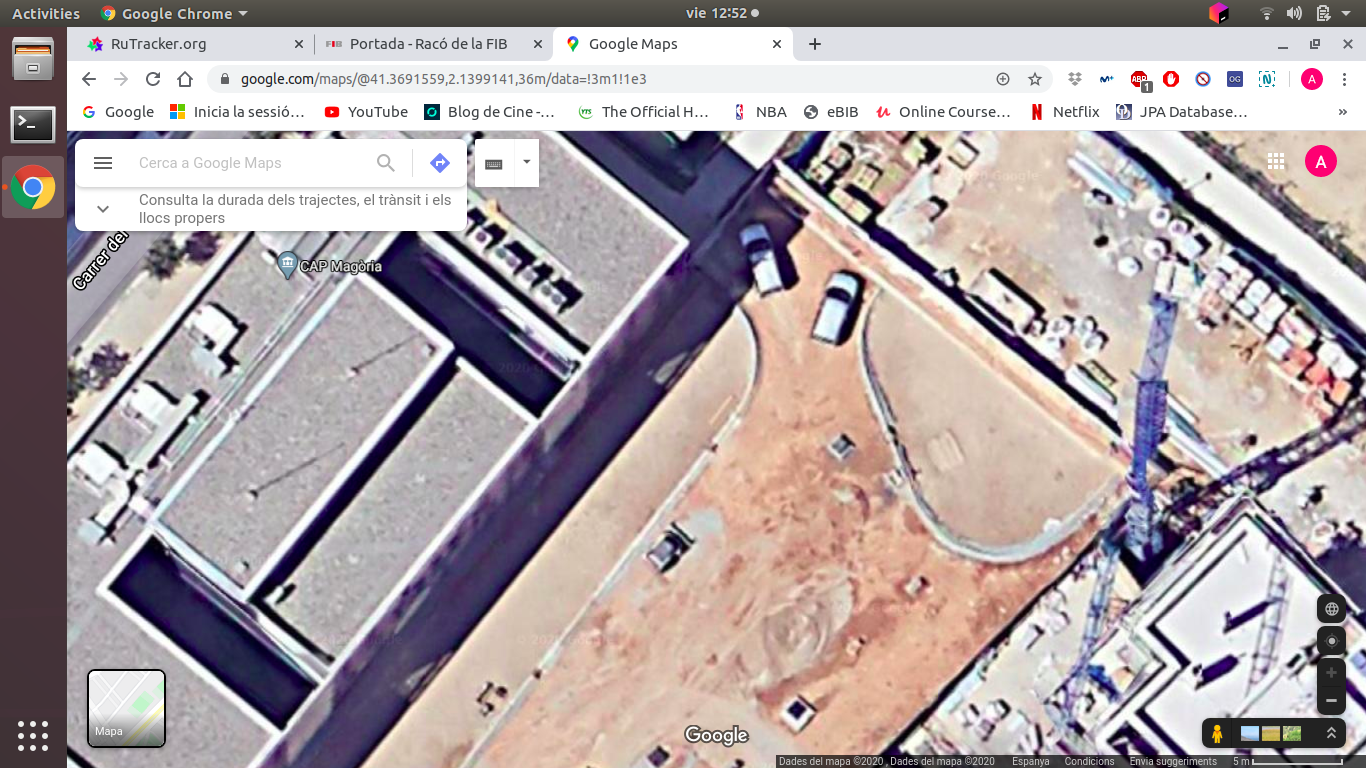crane: (1051, 304, 1179, 745)
